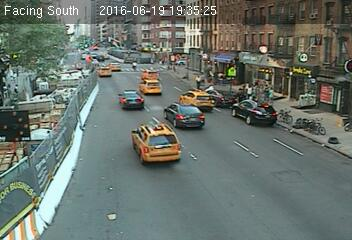neg: (257, 40, 271, 58), (297, 48, 311, 66), (312, 29, 325, 46)
pos: (192, 72, 204, 88), (266, 85, 277, 100), (129, 58, 140, 73), (244, 83, 252, 94)
